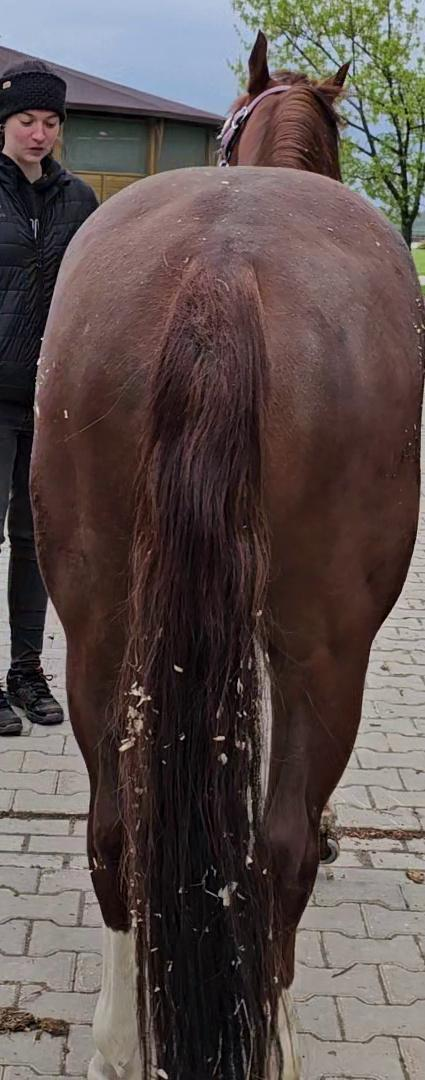horse: (27, 29, 423, 1078)
